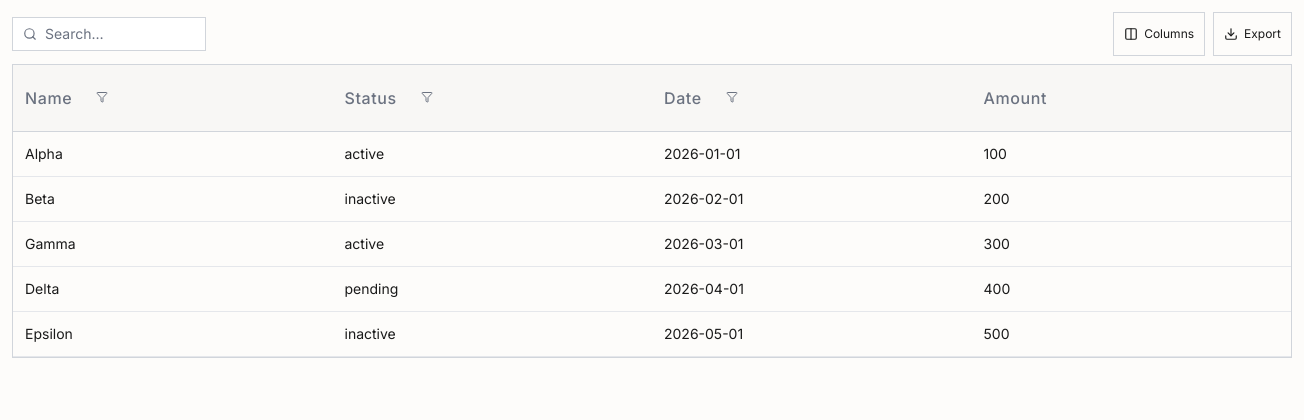
DataTable — expanded row renderer › clicking the row again collapses the detail panel
Click the text "Alpha active 2026-01-01 100". click: (652, 154)
box: 13,132 -> 1291,176
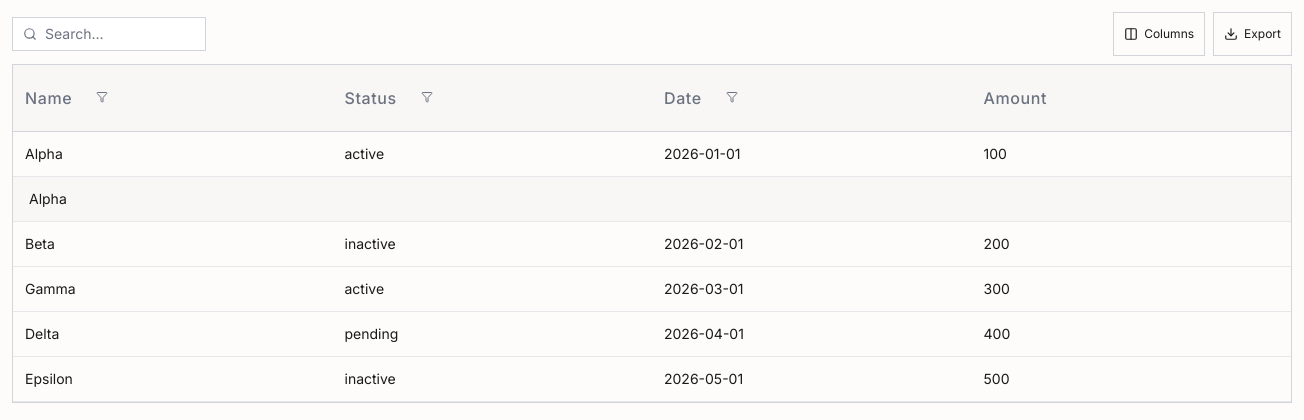
Click the text "Alpha active 2026-01-01 100". click: (652, 154)
box: 13,132 -> 1291,176
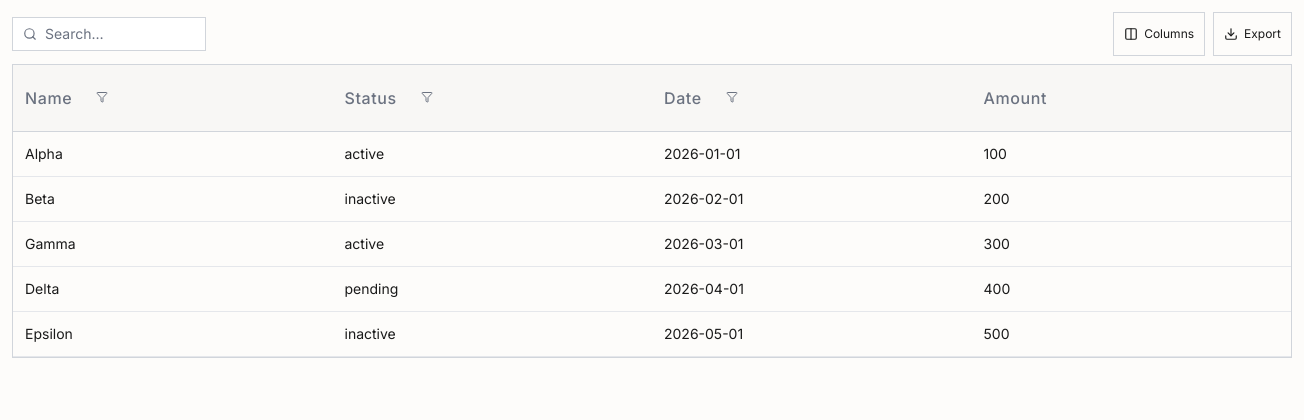
Expected: the text with test id "expanded" is gone
